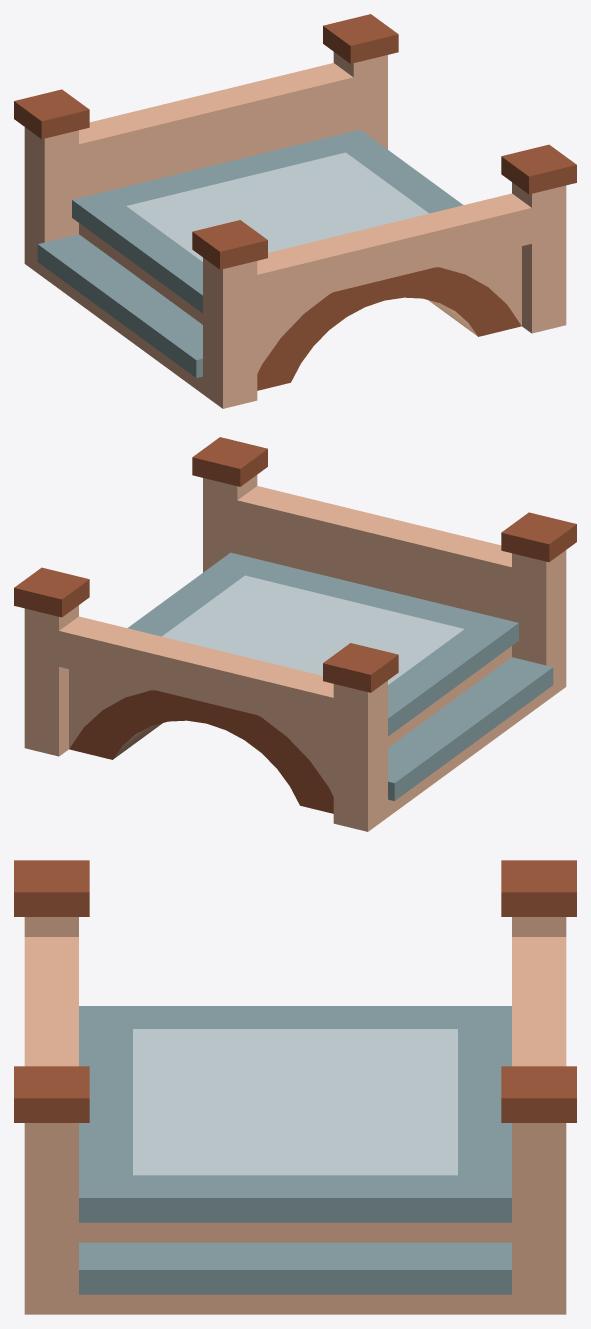
Rendered from bridge_woodRound.glb.
The picture shows the model from 3 angles, top to bottom: view 1: azimuth 30°, elevation 25°; view 2: azimuth 150°, elevation 25°; view 3: azimuth 270°, elevation 25°; orthographic projection. The views are drawn at different scales.
Parts seen in each view (by area): view 1: bridge_woodRound; view 2: bridge_woodRound; view 3: bridge_woodRound.
Part boxes in pixels (x1=…): bridge_woodRound: x1=14, y1=14, x2=576, y2=408; bridge_woodRound: x1=14, y1=437, x2=576, y2=831; bridge_woodRound: x1=14, y1=860, x2=576, y2=1314.
Size of the model in its own units: 1.04 by 0.45 by 1.04.
